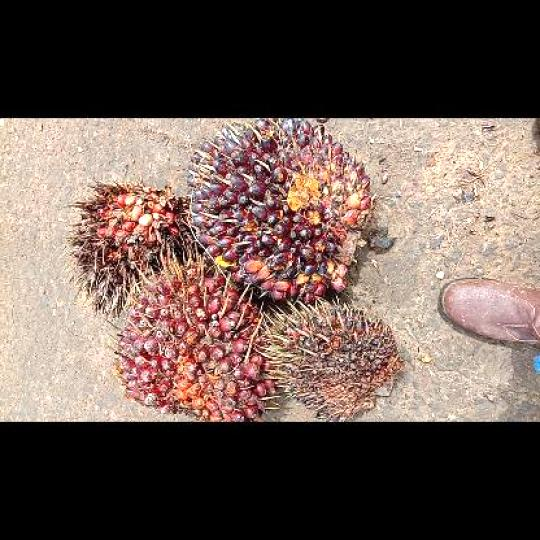kurang masak: (184, 119, 374, 304)
masak: (109, 258, 280, 420)
terlalu masak: (59, 177, 188, 321)
